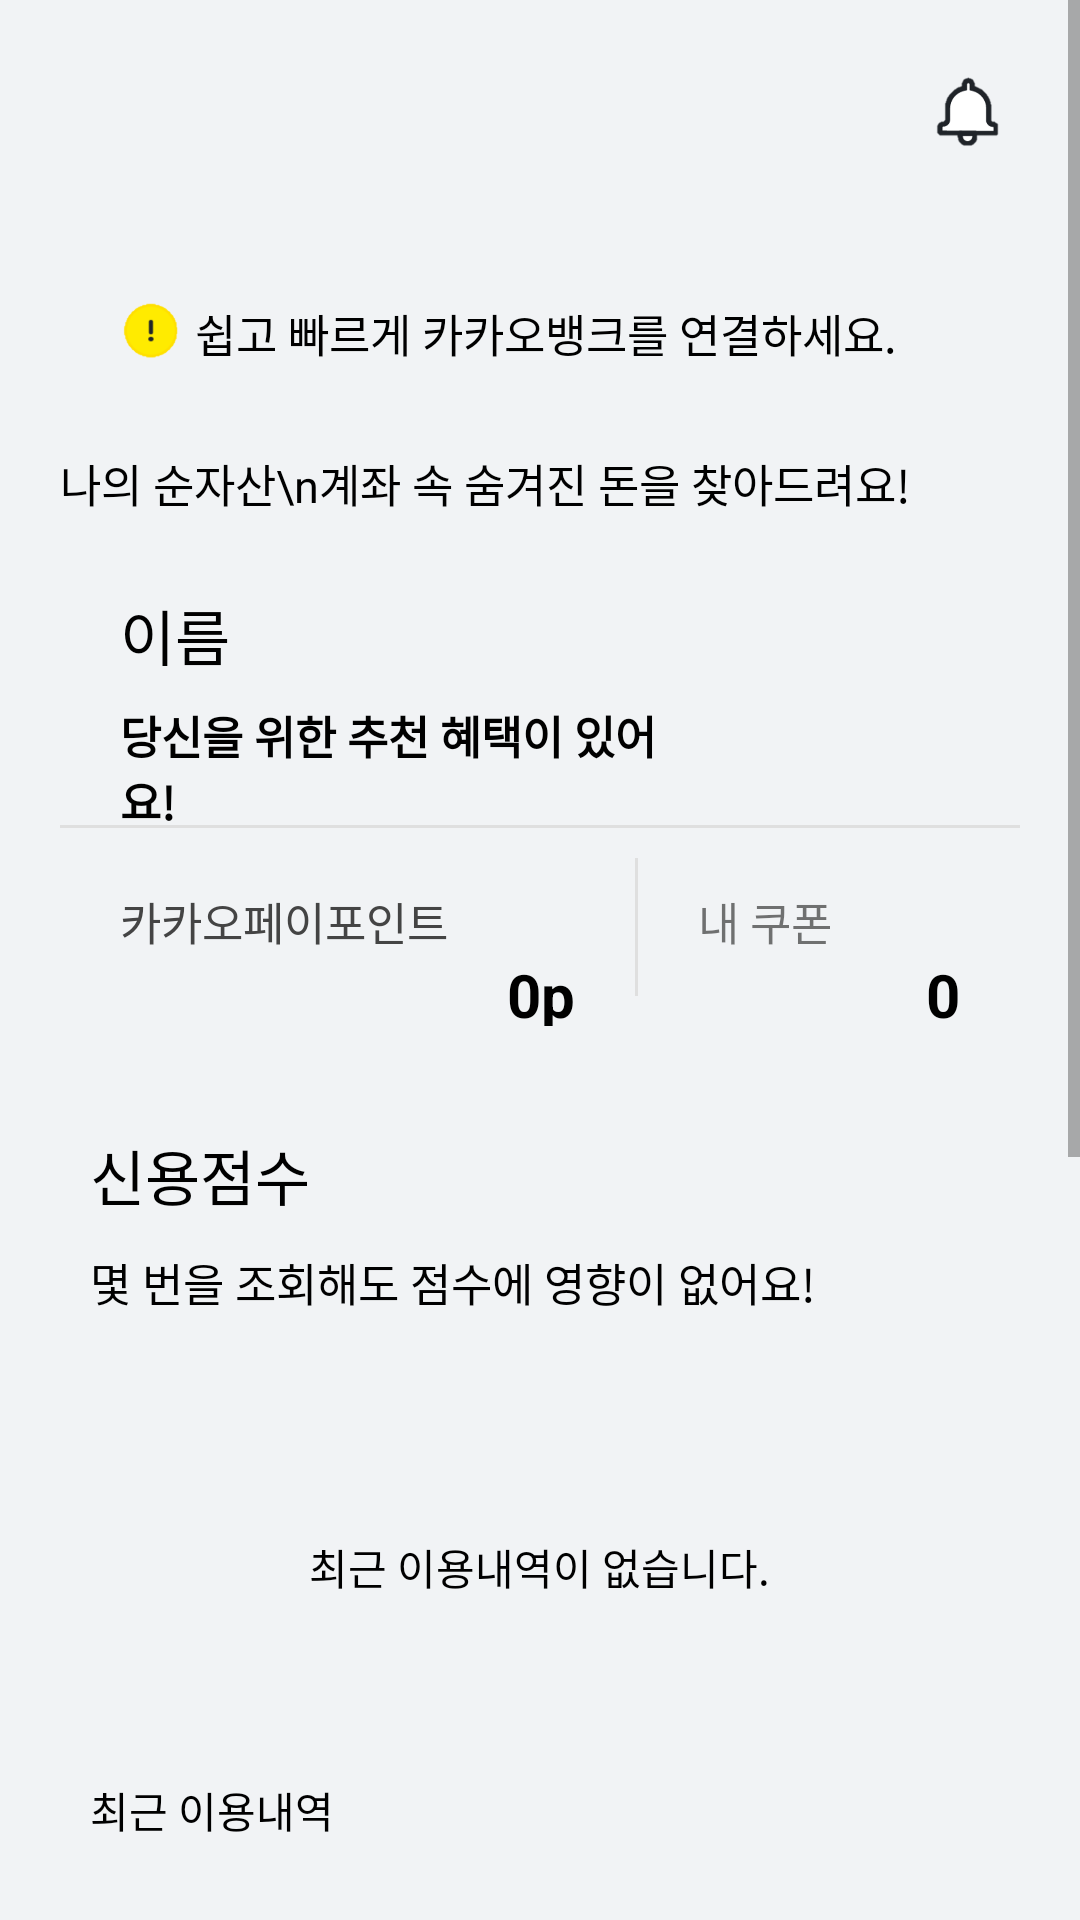

Point at icon controls on the screen. Image size 1080×1920, points as (x,y).
bang: (151,330)
